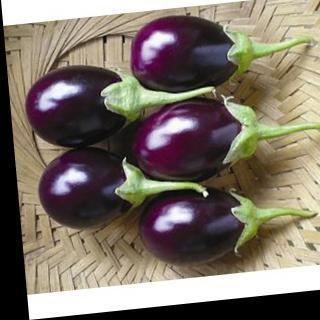eggplant: (124, 92, 319, 179), (20, 56, 202, 148), (134, 181, 312, 273), (129, 6, 316, 90), (34, 137, 200, 231)
